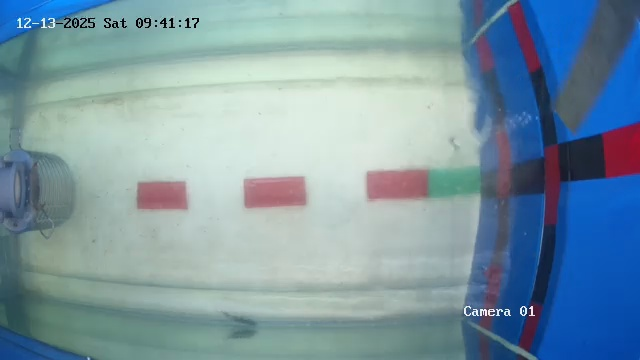fish: (221, 303, 260, 329)
